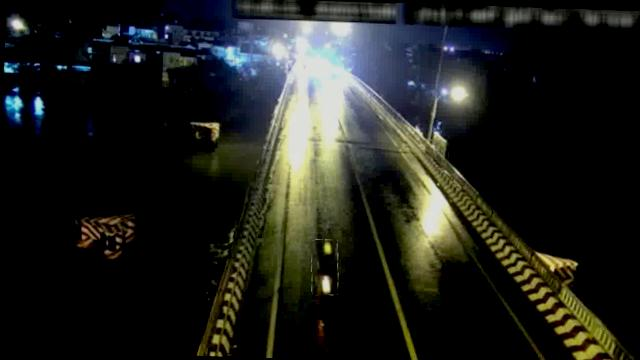Bike: (310, 239, 340, 296)
